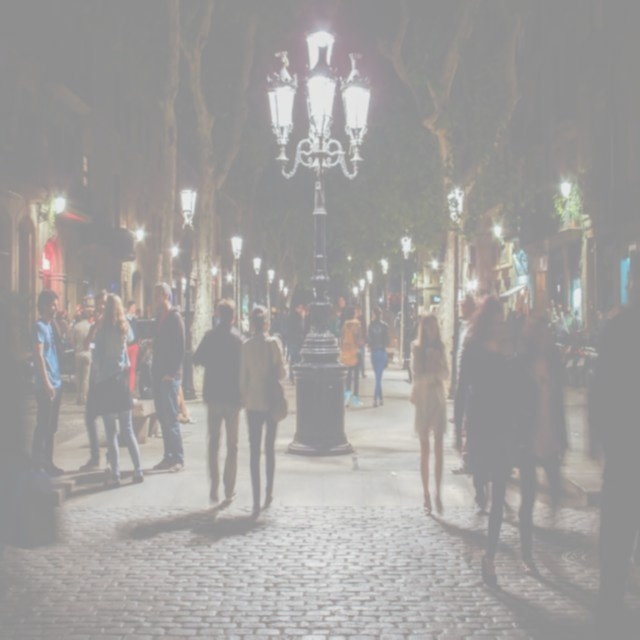pessoa: (583, 246, 640, 636), (469, 296, 542, 588), (238, 301, 290, 519), (190, 297, 244, 504), (90, 290, 144, 490), (465, 295, 513, 515), (408, 310, 451, 516), (148, 279, 188, 478), (28, 284, 67, 484), (524, 336, 570, 498), (78, 289, 112, 473), (137, 336, 185, 426), (364, 305, 392, 408), (340, 304, 364, 409), (452, 290, 475, 392), (70, 308, 92, 406), (124, 300, 140, 398), (286, 302, 303, 386), (172, 380, 198, 428), (353, 304, 368, 379), (279, 304, 292, 362), (59, 308, 74, 345), (543, 298, 560, 327), (74, 303, 96, 323), (337, 295, 348, 332), (406, 311, 420, 340), (506, 306, 526, 324), (394, 312, 402, 356), (562, 302, 574, 331), (302, 306, 310, 349), (571, 309, 583, 336), (328, 313, 341, 337), (266, 319, 281, 337), (240, 312, 250, 336), (554, 304, 564, 324), (211, 302, 220, 324), (136, 307, 150, 319)
